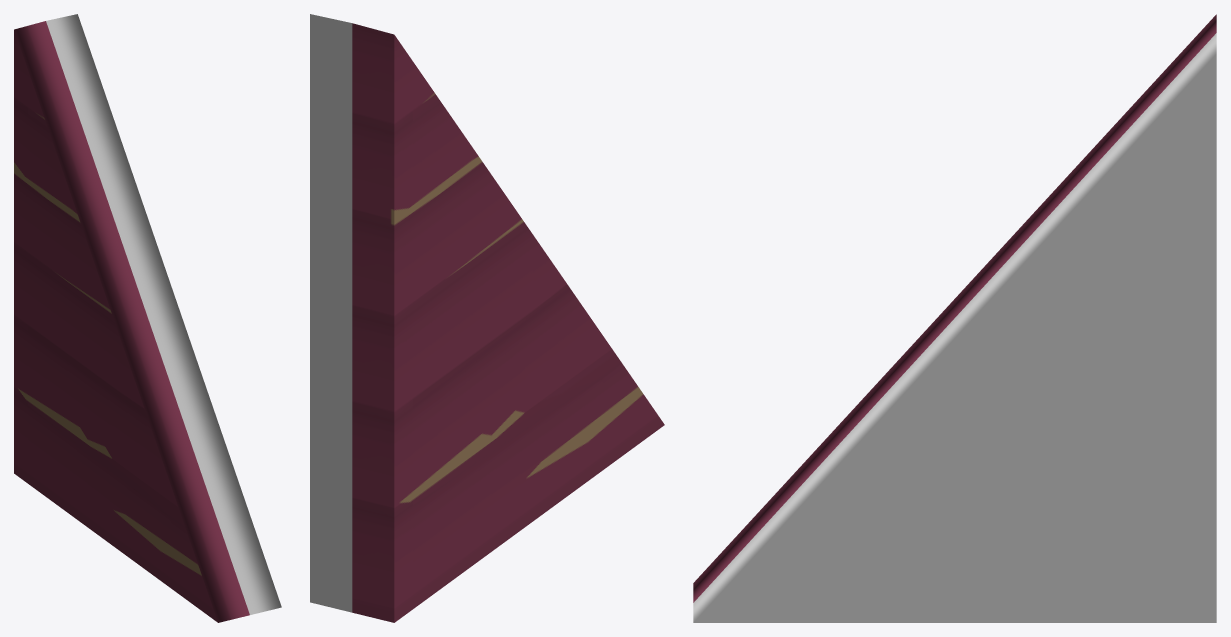
File: SM_Bld_Roof_S_Wall_01.fbx
3 renders of one model, left to right at view 1: azimuth 30°, elevation 25°; view 2: azimuth 150°, elevation 25°; view 3: azimuth 270°, elevation 25°, orthographic. The views are drawn at different scales.
Parts seen in each view (by area): view 1: SM_Bld_Roof_S_Wall_01; view 2: SM_Bld_Roof_S_Wall_01; view 3: SM_Bld_Roof_S_Wall_01.
Boxes of the visible parts, x1=… form: SM_Bld_Roof_S_Wall_01: x1=14, y1=14, x2=281, y2=622; SM_Bld_Roof_S_Wall_01: x1=310, y1=14, x2=664, y2=622; SM_Bld_Roof_S_Wall_01: x1=693, y1=14, x2=1216, y2=622.
Bounding box in the file's own units: 22.5 × 150 × 125.
